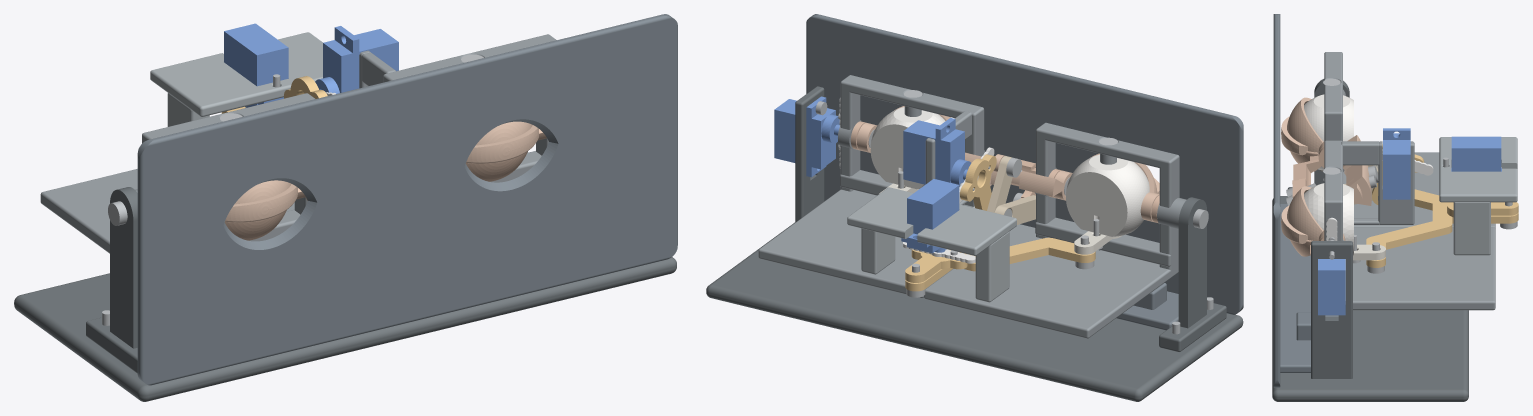
The model's file is assembly.glb.
3 renders of one model, left to right at view 1: azimuth 30°, elevation 25°; view 2: azimuth 150°, elevation 25°; view 3: azimuth 270°, elevation 25°, orthographic. The views are drawn at different scales.
Parts seen in each view (by area): view 1: mask, base, yaw_mount, frame_L, pivot_bracket, servo_lid, servo_yaw, frame_R, lid_up_L, lid_up_R, lid_lo_L, lid_lo_R (+1 smaller); view 2: mask, base, frame_L, frame_R, yaw_mount, eye_L, pivot_bracket, servo_lid, servo_pitch, eye_R, servo_yaw, coupler (+7 smaller); view 3: base, frame_R, mask, yaw_mount, frame_L, coupler, lid_up_R, servo_lid, servo_yaw, lid_up_L, servo_pitch, eye_R (+8 smaller).
Part boxes in pixels (x1,y1,x2,y2): mask: [137, 14, 677, 385]; base: [14, 257, 676, 401]; yaw_mount: [150, 32, 322, 126]; frame_L: [40, 93, 314, 253]; pivot_bracket: [86, 187, 137, 373]; servo_lid: [315, 26, 398, 93]; servo_yaw: [224, 23, 288, 107]; frame_R: [359, 34, 556, 182]; lid_up_L: [225, 180, 297, 222]; lid_up_R: [466, 121, 538, 163]; lid_lo_L: [224, 188, 307, 240]; lid_lo_R: [466, 129, 546, 181]; mask: [806, 14, 1243, 330]; base: [706, 86, 1243, 401]; frame_L: [924, 122, 1186, 338]; frame_R: [758, 75, 984, 297]; yaw_mount: [847, 187, 1016, 302]; eye_L: [1066, 154, 1149, 236]; pivot_bracket: [1159, 197, 1226, 351]; servo_lid: [903, 118, 971, 186]; servo_pitch: [774, 96, 839, 177]; eye_R: [870, 107, 945, 189]; servo_yaw: [901, 179, 959, 253]; coupler: [905, 237, 1095, 291]; base: [1272, 196, 1468, 401]; frame_R: [1324, 140, 1495, 310]; mask: [1273, 14, 1338, 387]; yaw_mount: [1439, 137, 1517, 255]; frame_L: [1324, 52, 1495, 228]; coupler: [1366, 189, 1518, 267]; lid_up_R: [1281, 165, 1371, 243]; servo_lid: [1383, 128, 1410, 199]; servo_yaw: [1451, 136, 1501, 171]; lid_up_L: [1281, 97, 1360, 184]; servo_pitch: [1318, 259, 1345, 315]; eye_R: [1304, 183, 1353, 255].
Size of the model in its own units: 212 by 98 by 111.
